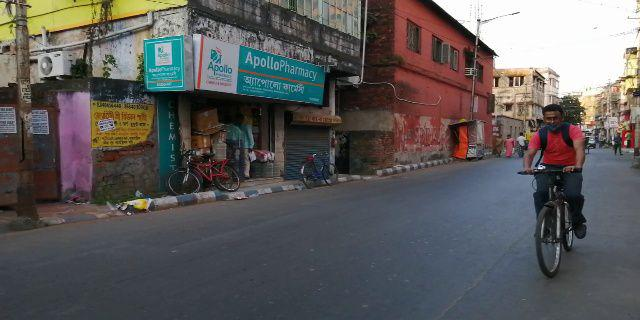Cycle: (515, 100, 592, 280), (166, 143, 244, 194), (294, 149, 338, 189)
